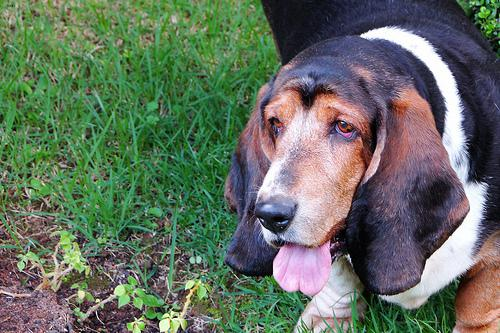dog-basset_hound: (222, 57, 469, 294)
